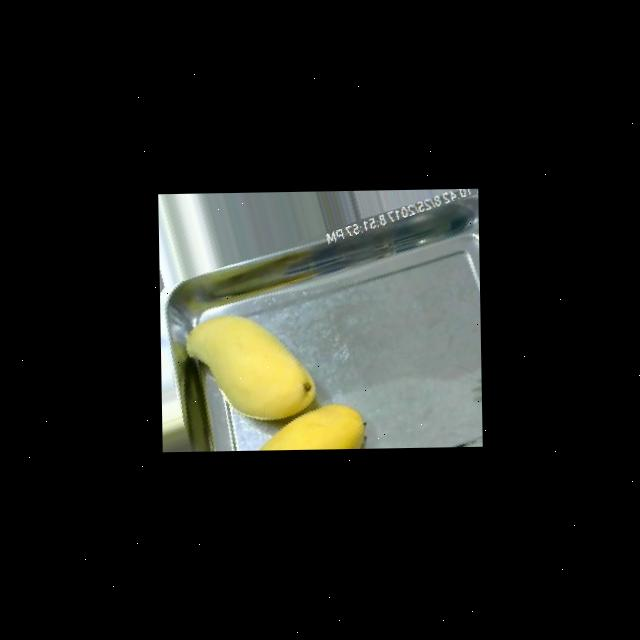Mango: (184, 312, 316, 421), (248, 402, 366, 449)
